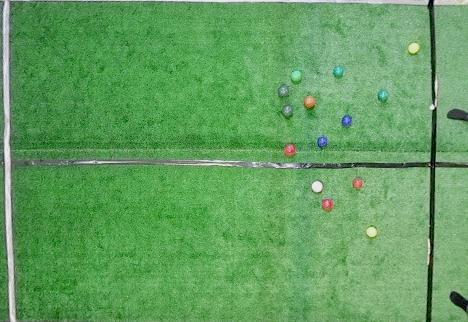blue: (341, 115, 352, 127), (317, 136, 327, 147)
green: (290, 70, 302, 82), (277, 85, 288, 97), (281, 105, 293, 116), (378, 90, 388, 100), (333, 66, 343, 76)
red: (284, 144, 296, 156), (304, 96, 316, 108), (312, 181, 323, 192), (322, 199, 333, 210), (352, 178, 363, 188)
vline: (425, 1, 468, 321), (0, 1, 19, 321)
white: (429, 104, 435, 110)
yellow: (408, 43, 420, 54), (366, 227, 377, 238)
